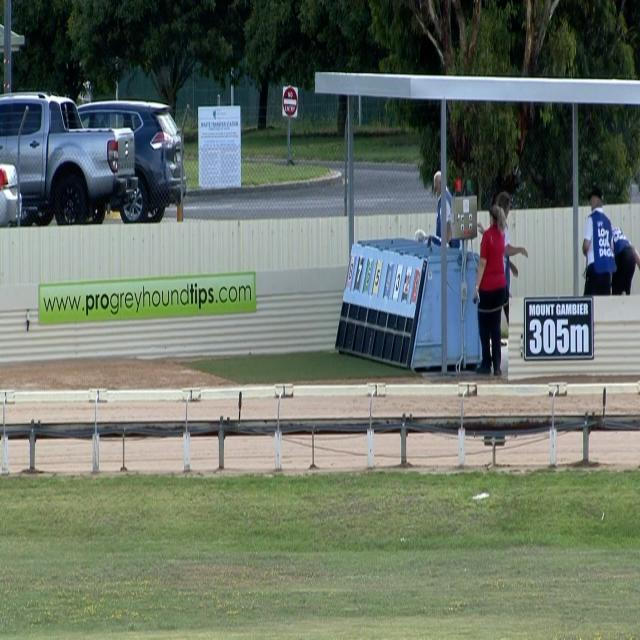rail: (0, 414, 640, 440)
